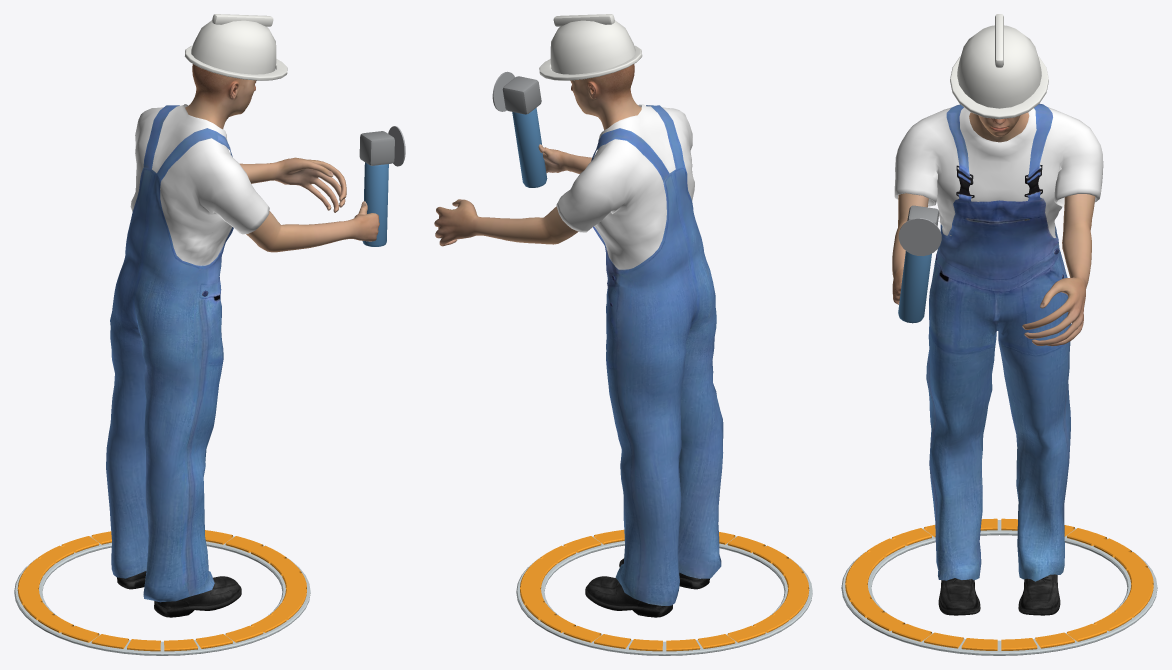
File: MDO-INS-004.glb
The picture shows the model from 3 angles, left to right: view 1: azimuth 30°, elevation 25°; view 2: azimuth 150°, elevation 25°; view 3: azimuth 270°, elevation 25°; orthographic projection. The views are drawn at different scales.
Parts seen in each view (by area): view 1: MDO-INS-004_pessoa_male_worksuit01, MDO-INS-004_pessoa, MDO-INS-004_capacete, MDO-INS-004_anel_fundo, MDO-INS-004_pessoa_shoes04, MDO-INS-004_ferD_corpo, MDO-INS-004_ferD_cabeca, MDO-INS-004_capacete_aba; view 2: MDO-INS-004_pessoa_male_worksuit01, MDO-INS-004_pessoa, MDO-INS-004_capacete, MDO-INS-004_anel_fundo, MDO-INS-004_pessoa_shoes04, MDO-INS-004_ferD_corpo, MDO-INS-004_ferD_cabeca, MDO-INS-004_capacete_aba; view 3: MDO-INS-004_pessoa_male_worksuit01, MDO-INS-004_pessoa, MDO-INS-004_capacete, MDO-INS-004_anel_fundo, MDO-INS-004_pessoa_shoes04, MDO-INS-004_ferD_corpo, MDO-INS-004_capacete_aba, MDO-INS-004_ferD_disco, MDO-INS-004_capacete_friso.
Boxes of the visible parts, x1,y1,x2,y2 form: MDO-INS-004_pessoa_male_worksuit01: [106, 104, 269, 602]; MDO-INS-004_pessoa: [185, 64, 379, 252]; MDO-INS-004_capacete: [191, 20, 276, 74]; MDO-INS-004_anel_fundo: [14, 536, 310, 655]; MDO-INS-004_pessoa_shoes04: [117, 571, 241, 617]; MDO-INS-004_ferD_corpo: [362, 162, 388, 246]; MDO-INS-004_ferD_cabeca: [359, 131, 394, 165]; MDO-INS-004_capacete_aba: [184, 45, 287, 80]; MDO-INS-004_pessoa_male_worksuit01: [556, 104, 723, 605]; MDO-INS-004_pessoa: [434, 64, 641, 246]; MDO-INS-004_capacete: [550, 20, 635, 74]; MDO-INS-004_anel_fundo: [516, 536, 812, 655]; MDO-INS-004_pessoa_shoes04: [585, 558, 709, 617]; MDO-INS-004_ferD_corpo: [512, 108, 547, 187]; MDO-INS-004_ferD_cabeca: [502, 76, 541, 114]; MDO-INS-004_capacete_aba: [539, 45, 642, 80]; MDO-INS-004_pessoa_male_worksuit01: [894, 103, 1103, 581]; MDO-INS-004_pessoa: [892, 112, 1095, 346]; MDO-INS-004_capacete: [957, 25, 1041, 108]; MDO-INS-004_anel_fundo: [841, 520, 1157, 655]; MDO-INS-004_pessoa_shoes04: [938, 574, 1060, 615]; MDO-INS-004_ferD_corpo: [898, 251, 931, 323]; MDO-INS-004_capacete_aba: [950, 56, 1048, 119]; MDO-INS-004_ferD_disco: [898, 218, 941, 256]; MDO-INS-004_capacete_friso: [995, 14, 1003, 67].
Bounding box in the file's own units: 1.09 × 1.78 × 0.84.
11 materials, 5 textured.
